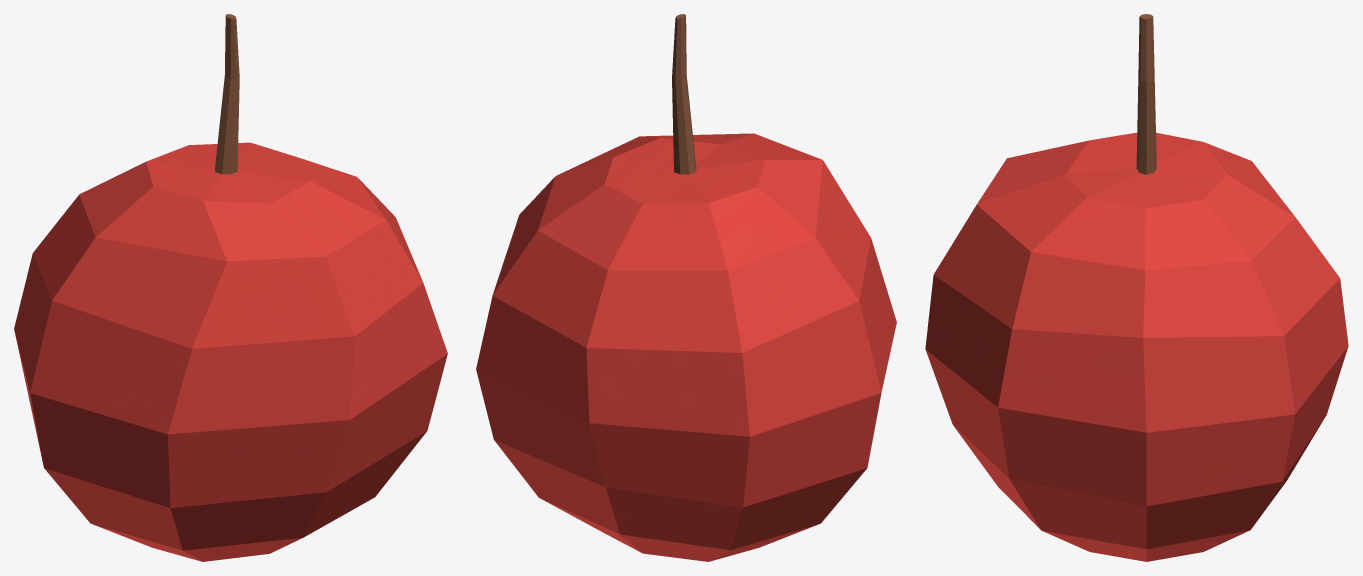
The model's file is Apple.fbx.
The picture shows the model from 3 angles, left to right: view 1: azimuth 30°, elevation 25°; view 2: azimuth 150°, elevation 25°; view 3: azimuth 270°, elevation 25°; orthographic projection.
Parts seen in each view (by area): view 1: Apple; view 2: Apple; view 3: Apple.
Boxes of the visible parts, left/top/right/bottom form: Apple: left=14, top=14, right=447, bottom=561; Apple: left=476, top=14, right=896, bottom=561; Apple: left=925, top=14, right=1348, bottom=561.
Bounding box in the file's own units: 0.1501 × 0.1919 × 0.1424.
